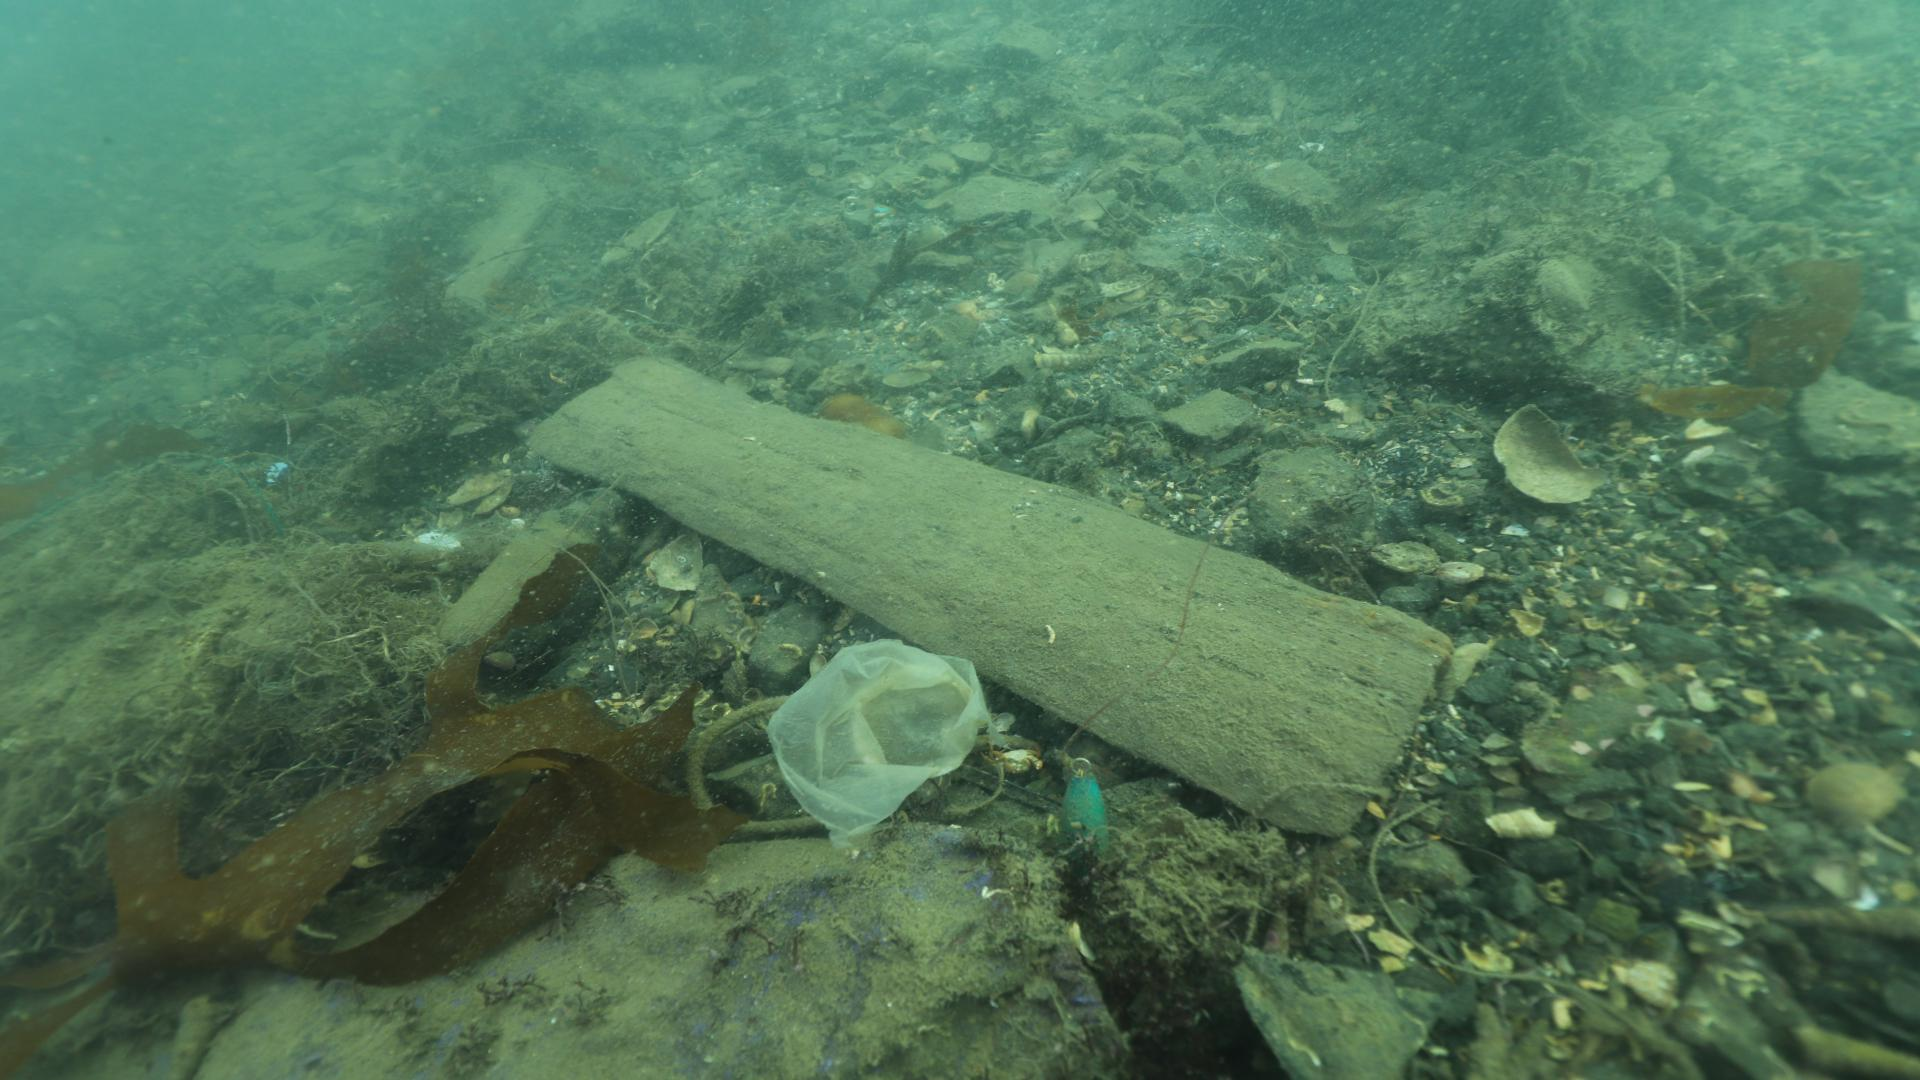wood: (512, 344, 1451, 847)
